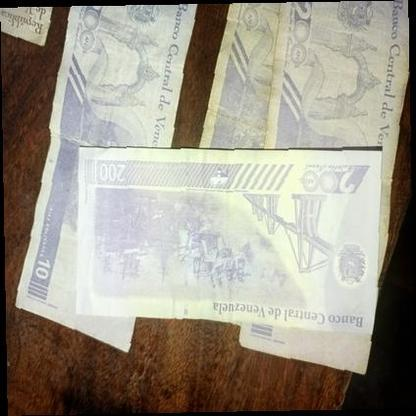ten-back-vef: (15, 0, 197, 352), (238, 3, 408, 373), (200, 0, 292, 149)
two_hundred-back-vef: (75, 143, 384, 336)
